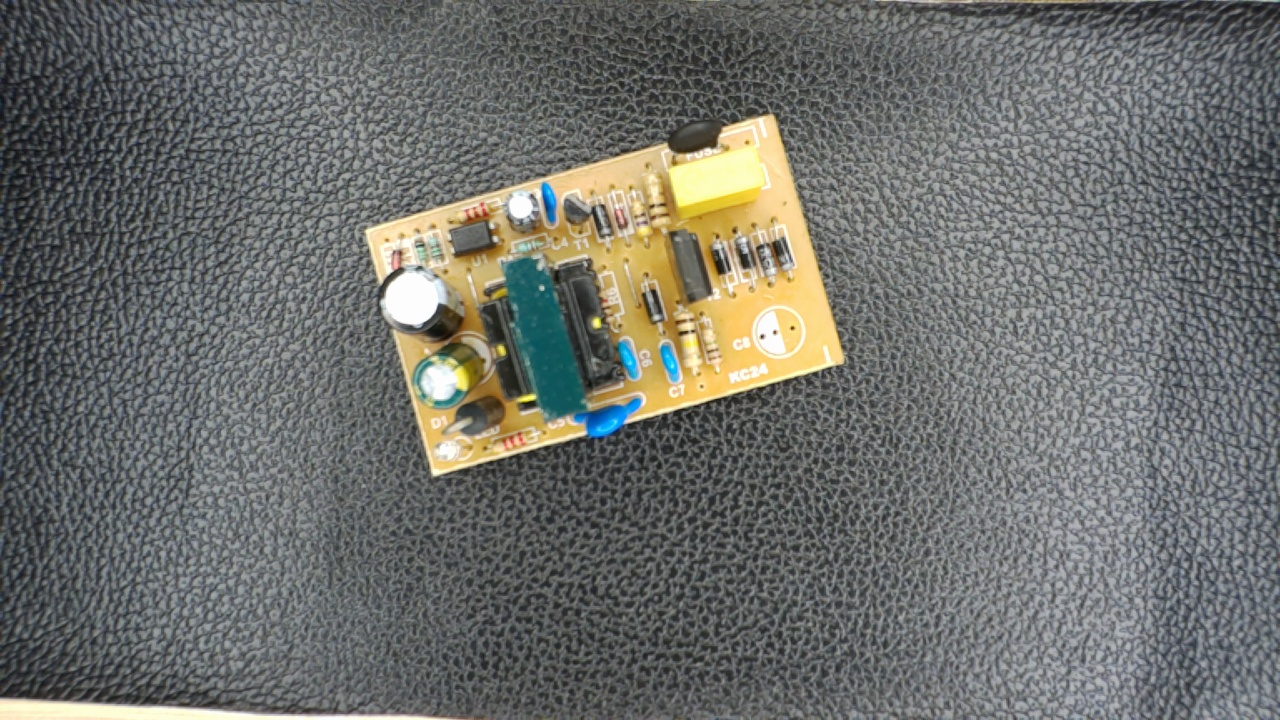fuse: (660, 119, 737, 165)
mov: (566, 393, 648, 440)
optocoupler: (438, 216, 513, 255)
